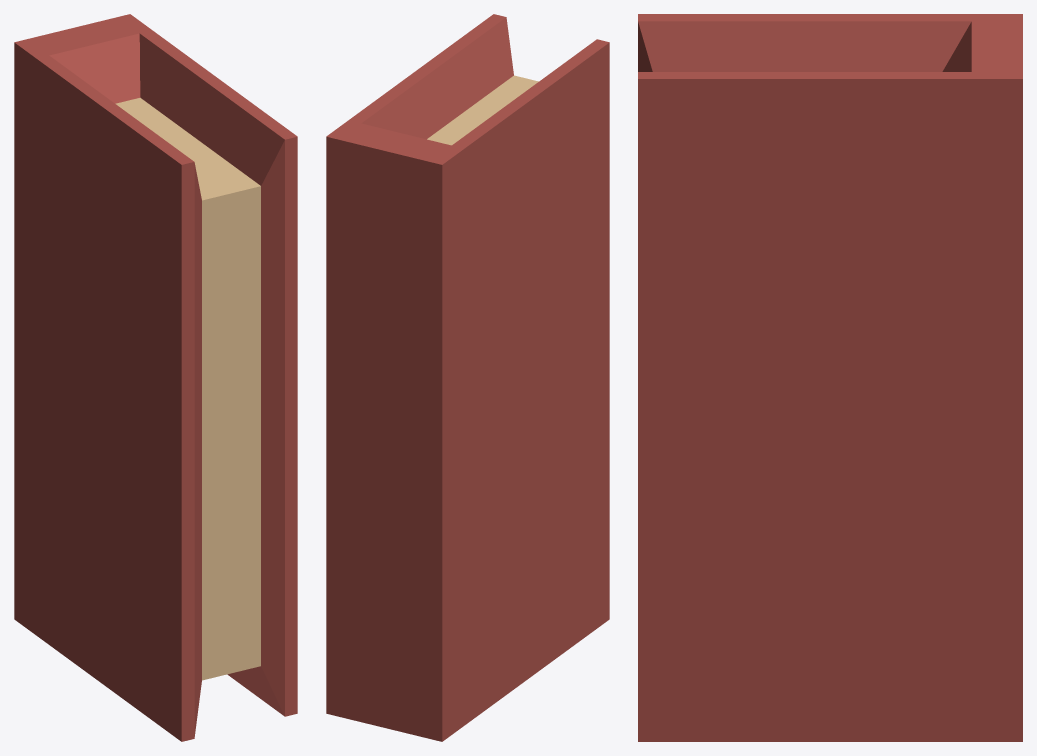
The model's file is shelf_book.fbx.
3 views of the same model, side by side, from view 1: azimuth 30°, elevation 25°; view 2: azimuth 150°, elevation 25°; view 3: azimuth 270°, elevation 25° (orthographic). The views are drawn at different scales.
Parts seen in each view (by area): view 1: Cube; view 2: Cube; view 3: Cube.
Boxes of the visible parts, left/top/right/bottom form: Cube: left=14, top=14, right=297, bottom=741; Cube: left=326, top=14, right=609, bottom=741; Cube: left=638, top=14, right=1022, bottom=741.
Size of the model in its own units: 0.8 by 2 by 3.8.
